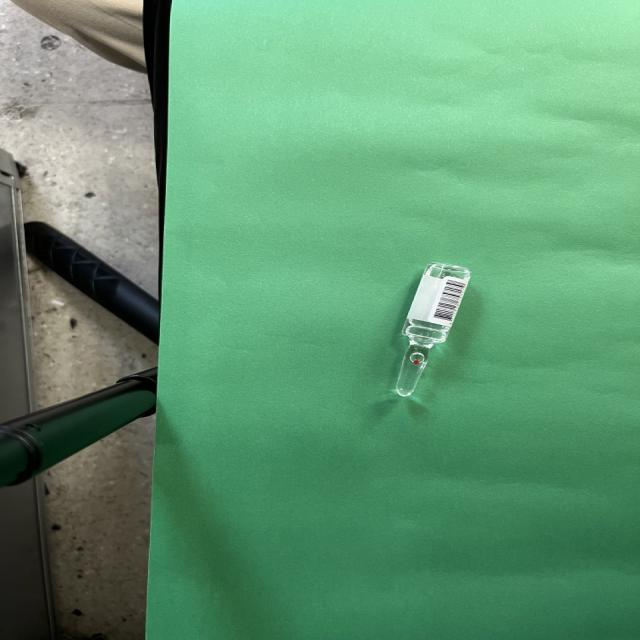Ampoules: (395, 263, 470, 397)
